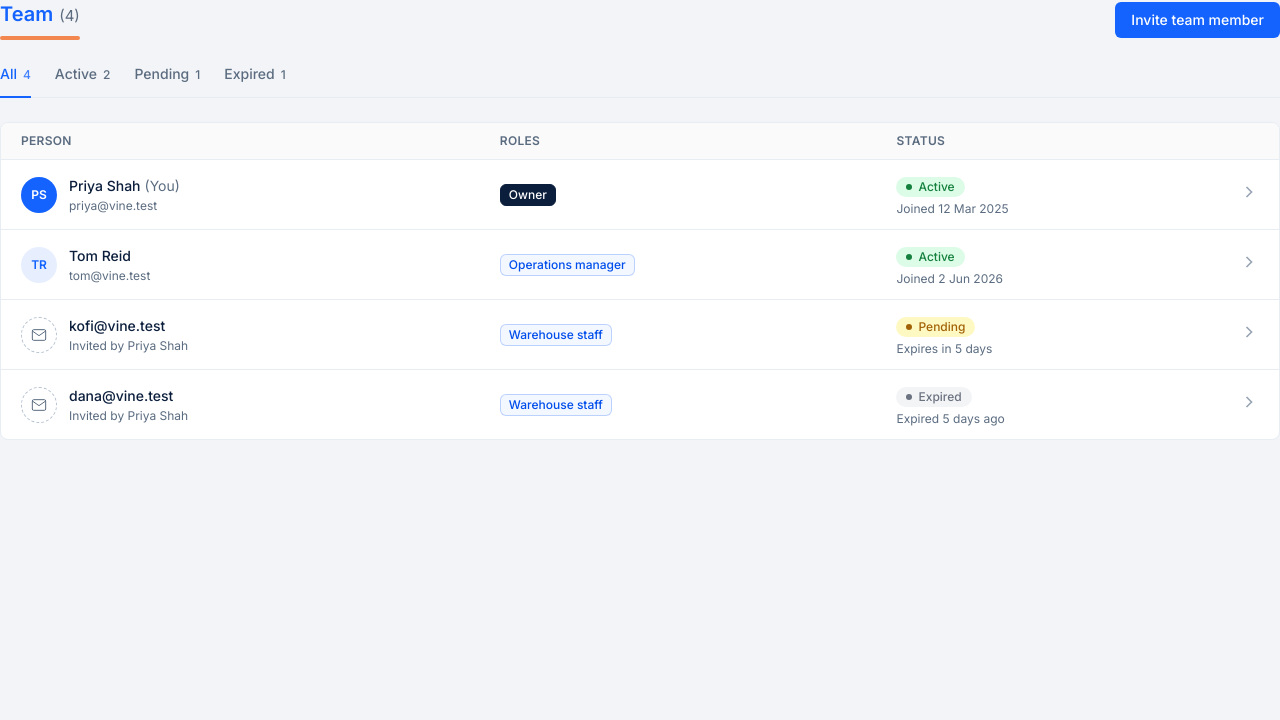
Test case: Team page › opens the person drawer when a row is clicked, and closes it again
The width and height of the screenshot is (1280, 720).
Click the button with aria-label "Open kofi@vine.test" at (39, 334), box [21,316,468,354]
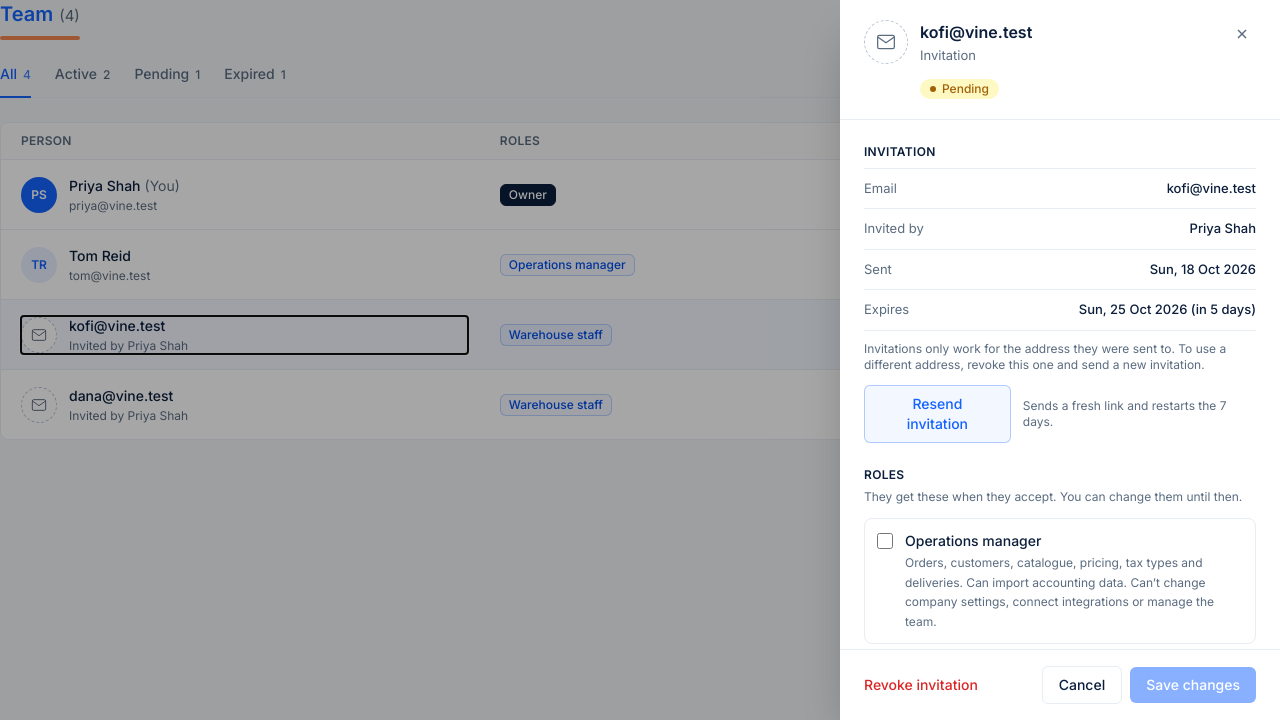
Expected: the button "Revoke invitation" is shown, [864,675,978,695]
Click the button named "Close" at (1242, 34), box [1228,20,1256,48]
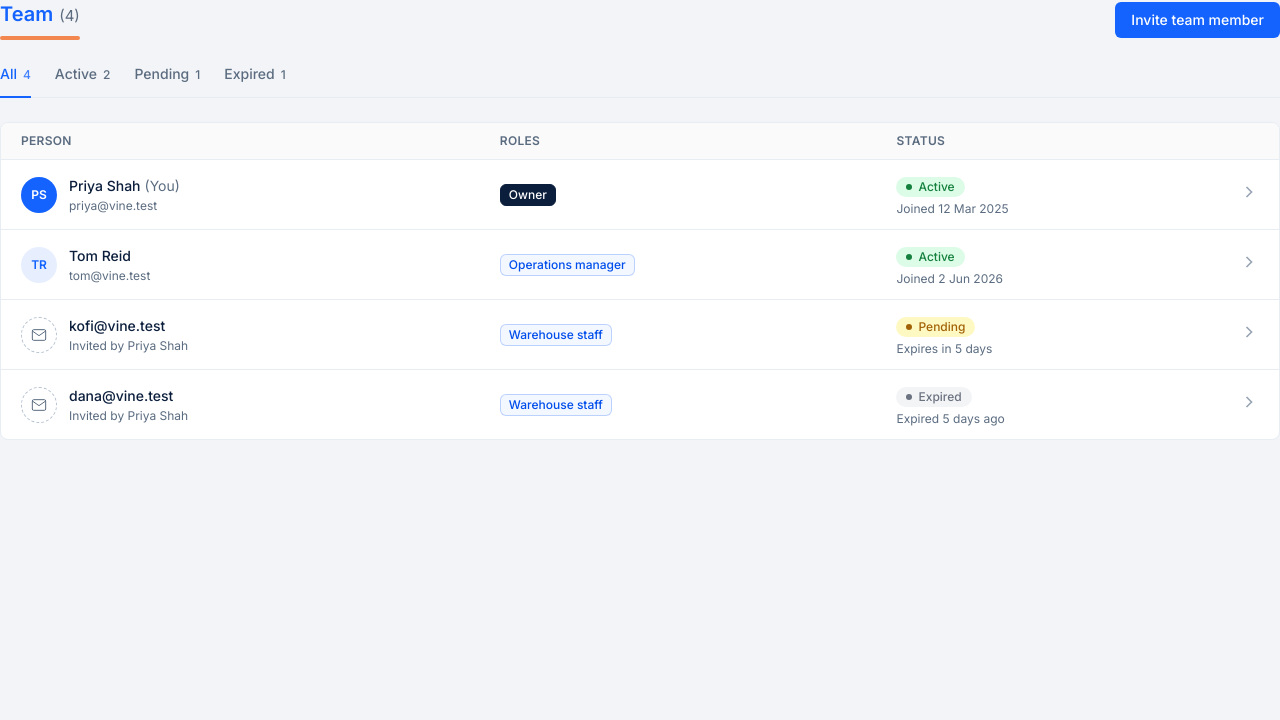
Expected: the button "Revoke invitation" is gone
